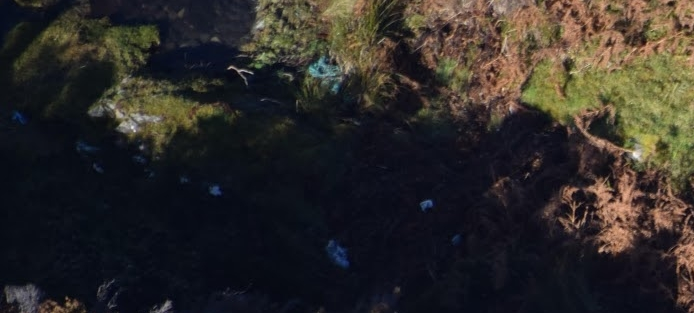net: (302, 51, 351, 84)
white_in_green: (403, 181, 453, 226)
